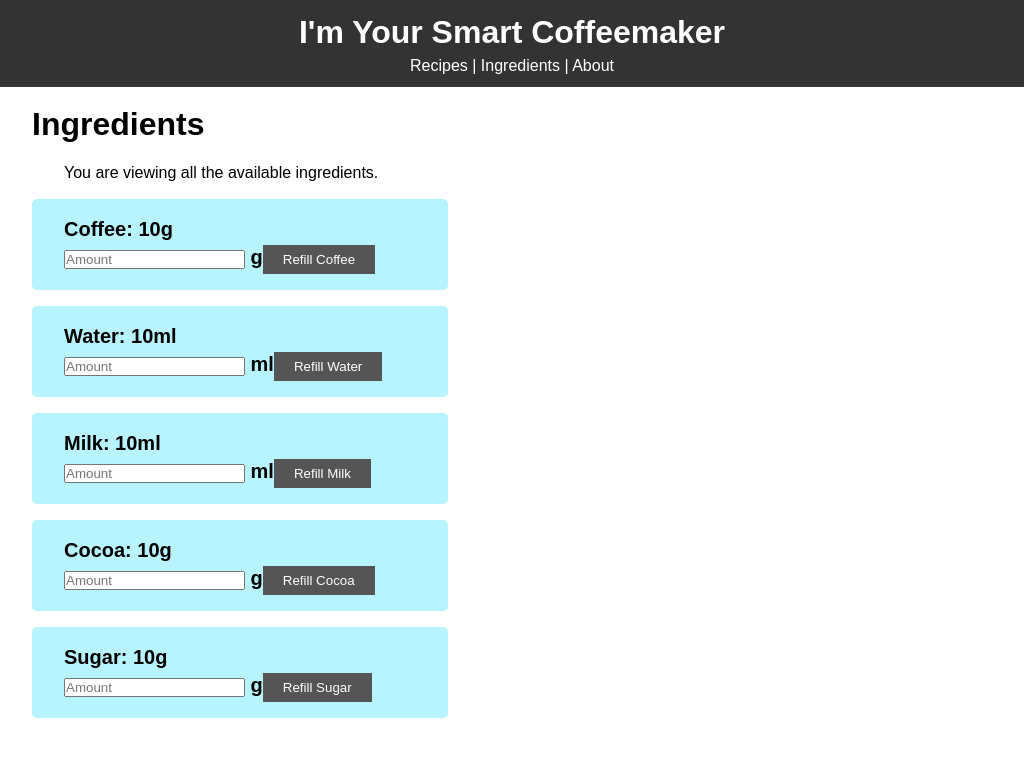
Test: Ingredients - UI Tests › Bottommost ingredient not scrolled out of view after interaction
Type "1" into the number field with id "amount-Cocoa" at (155, 581), box left=64, top=571, right=245, bottom=590
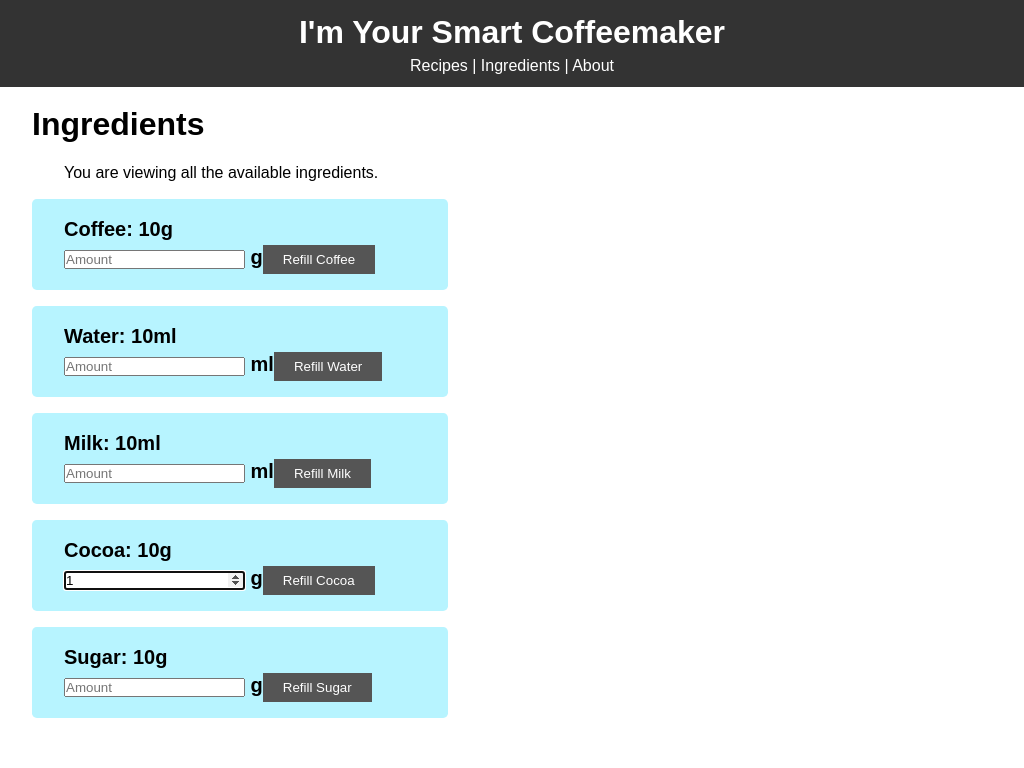
Click the button with id "button-Cocoa" at (319, 581), box left=263, top=566, right=375, bottom=595
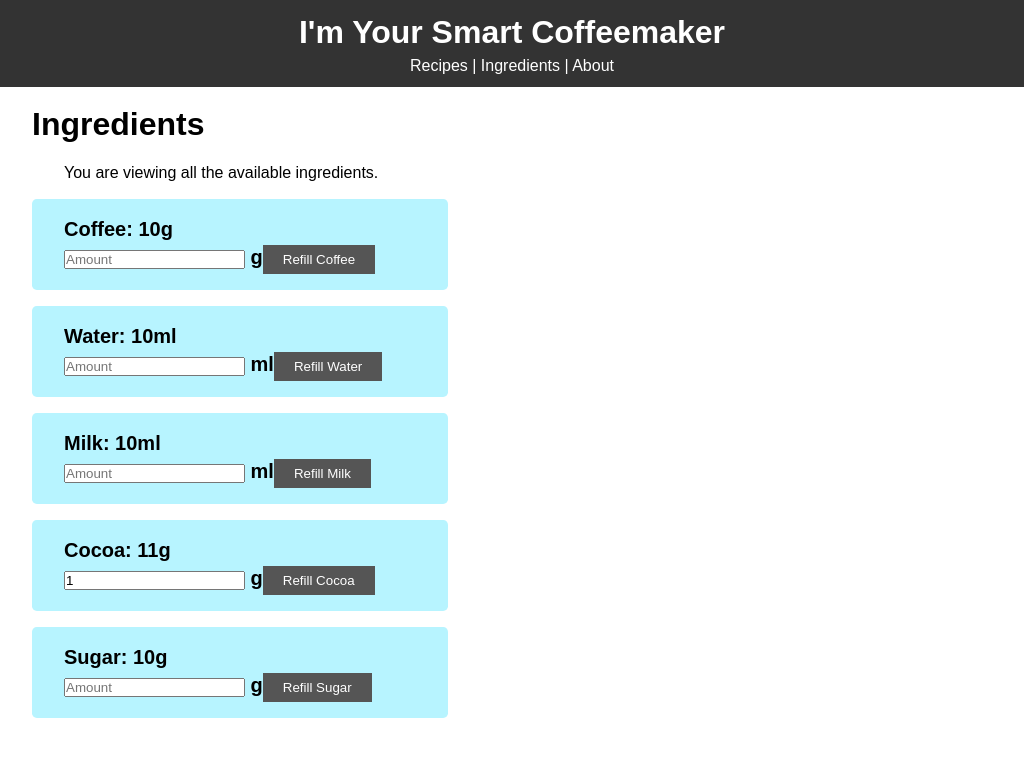
expect the element with id "ingredient-Cocoa" is shown: met, box left=32, top=520, right=448, bottom=611
expect the label "Cocoa: 11g" is shown: met, box left=64, top=539, right=171, bottom=561
